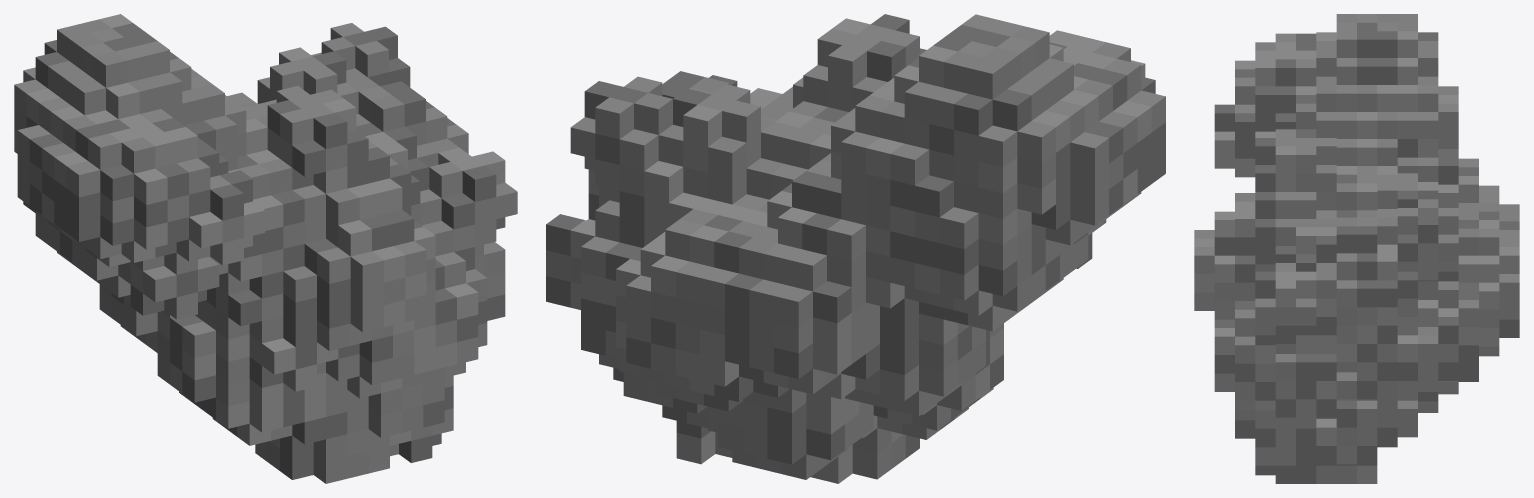
File: a1nothing.obj
The picture shows the model from 3 angles, left to right: view 1: azimuth 30°, elevation 25°; view 2: azimuth 150°, elevation 25°; view 3: azimuth 270°, elevation 25°; orthographic projection. The views are drawn at different scales.
Size of the model in its own units: 2 by 1.9 by 1.6.
Materials: 1 (1 with a texture image).
